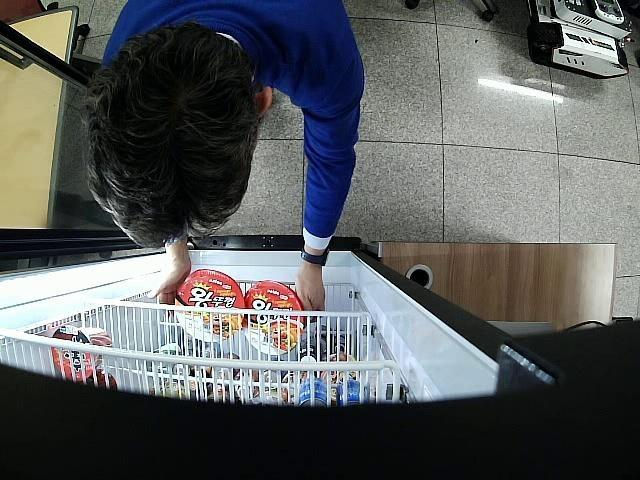10_wangTtukkeong: (174, 270, 246, 342), (244, 280, 307, 355)
